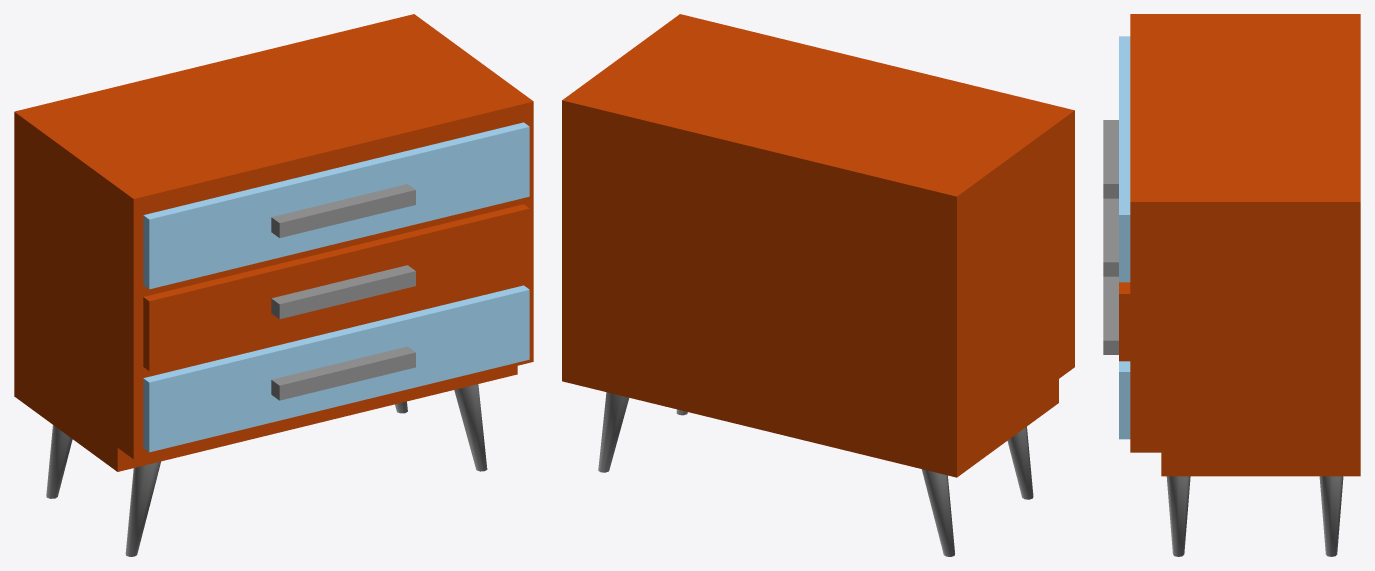
File: ArmarioGaveteiro.fbx
3 views of the same model, side by side, from view 1: azimuth 30°, elevation 25°; view 2: azimuth 150°, elevation 25°; view 3: azimuth 270°, elevation 25° (orthographic). The views are drawn at different scales.
Parts seen in each view (by area): view 1: ArmarioGaveteiro; view 2: ArmarioGaveteiro; view 3: ArmarioGaveteiro.
Part boxes in pixels (left/top/right/bottom): ArmarioGaveteiro: left=14, top=14, right=533, bottom=556; ArmarioGaveteiro: left=562, top=14, right=1074, bottom=556; ArmarioGaveteiro: left=1103, top=14, right=1360, bottom=556.
Bounding box in the file's own units: 77.93 × 70.59 × 45.09.
